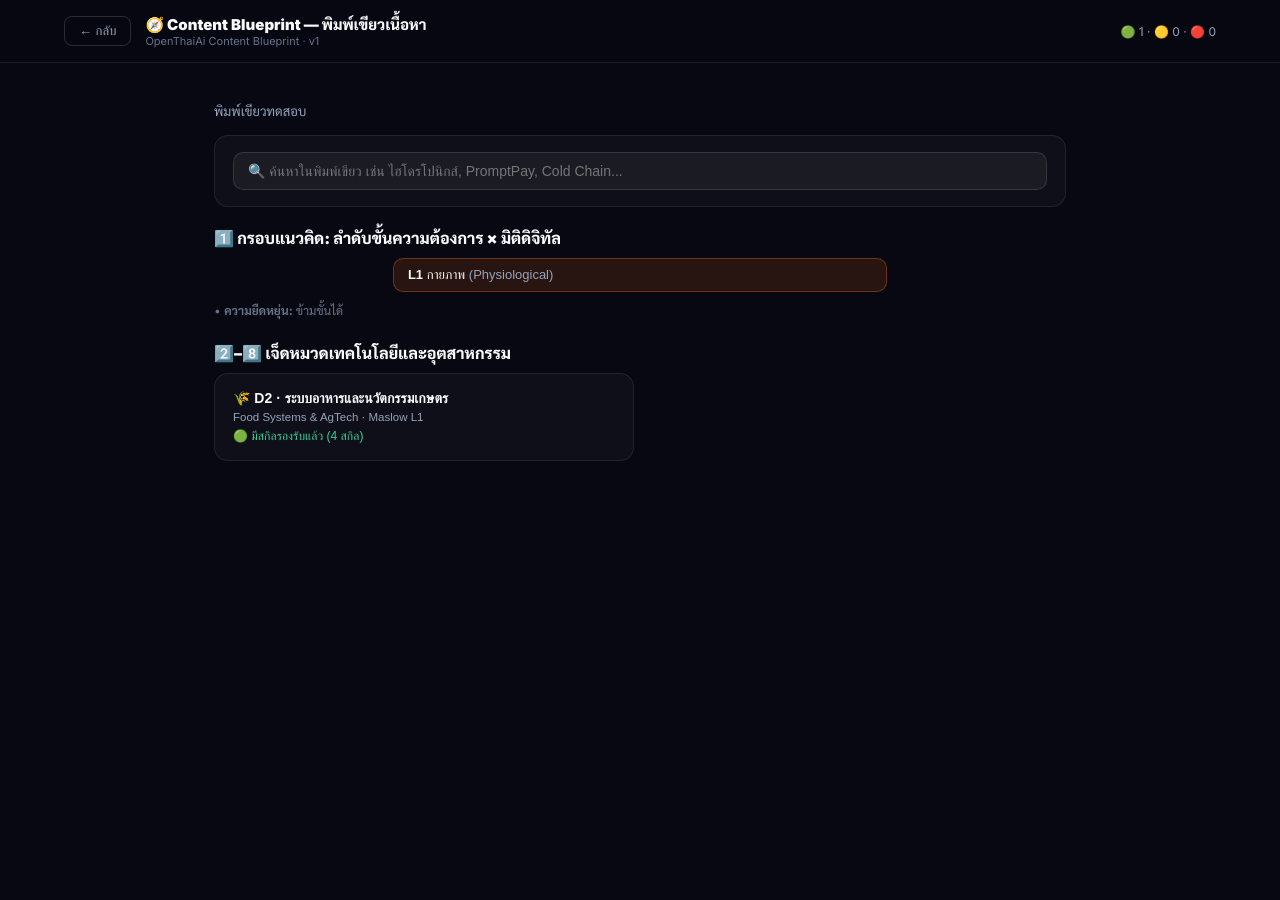
Scenario: ContentBlueprintPage › expands a domain to show sections, skills, and next steps
Click the text "🌾 D2 · ระบบอาหารและนวัตกรรมเกษตร": (341, 398) [233,390,448,406]
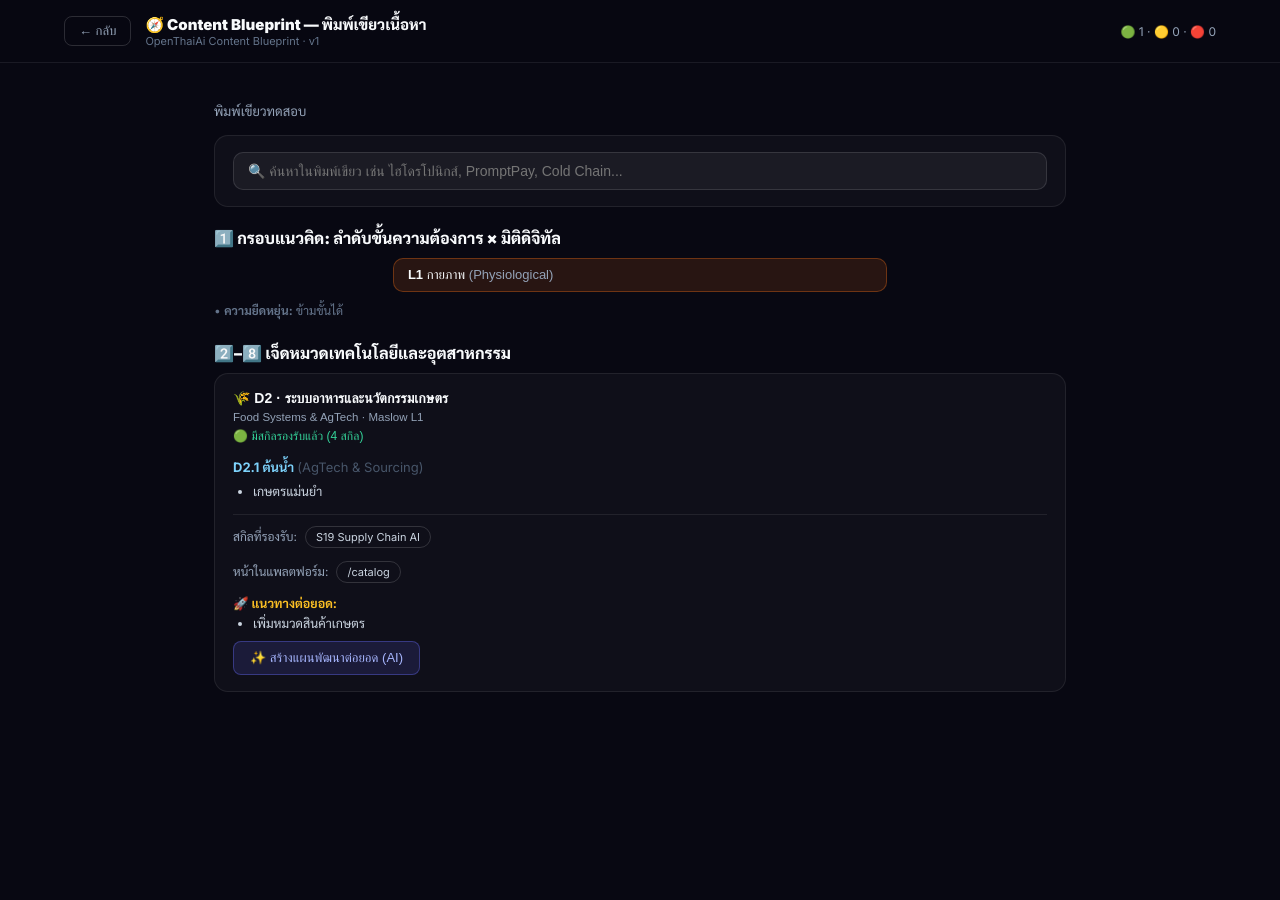
Now the list item "เกษตรแม่นยำ" is shown, box [253,484,322,499]
Now the link "S19 Supply Chain AI" is shown, box [305,526,431,548]
Now the list item "เพิ่มหมวดสินค้าเกษตร" is shown, box [253,616,365,631]
